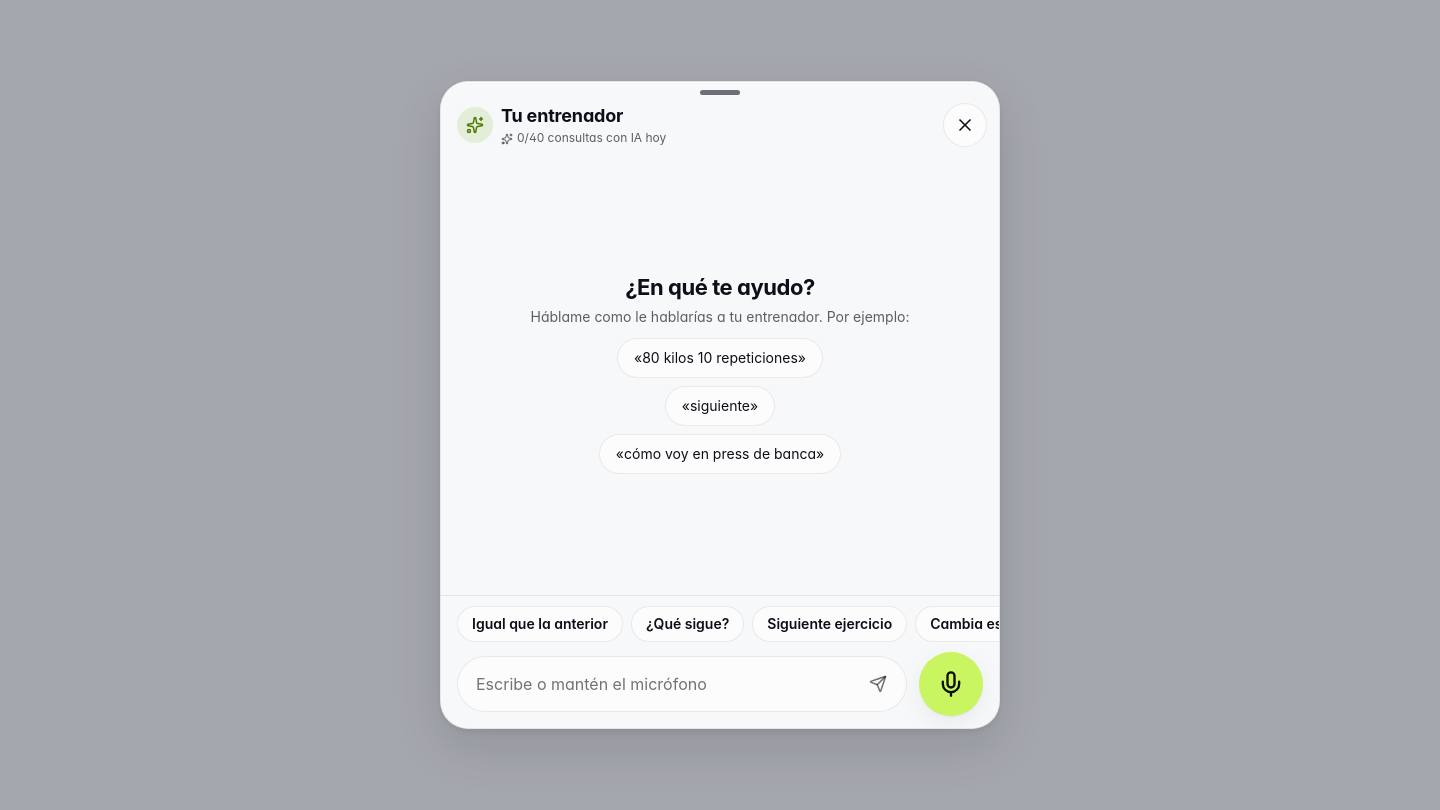
AssistantSheet › only the newest logged set offers Deshacer
Type "80 por 10" into the field named "Mensaje para el asistente" at (663, 684), box [474,657,852,711]
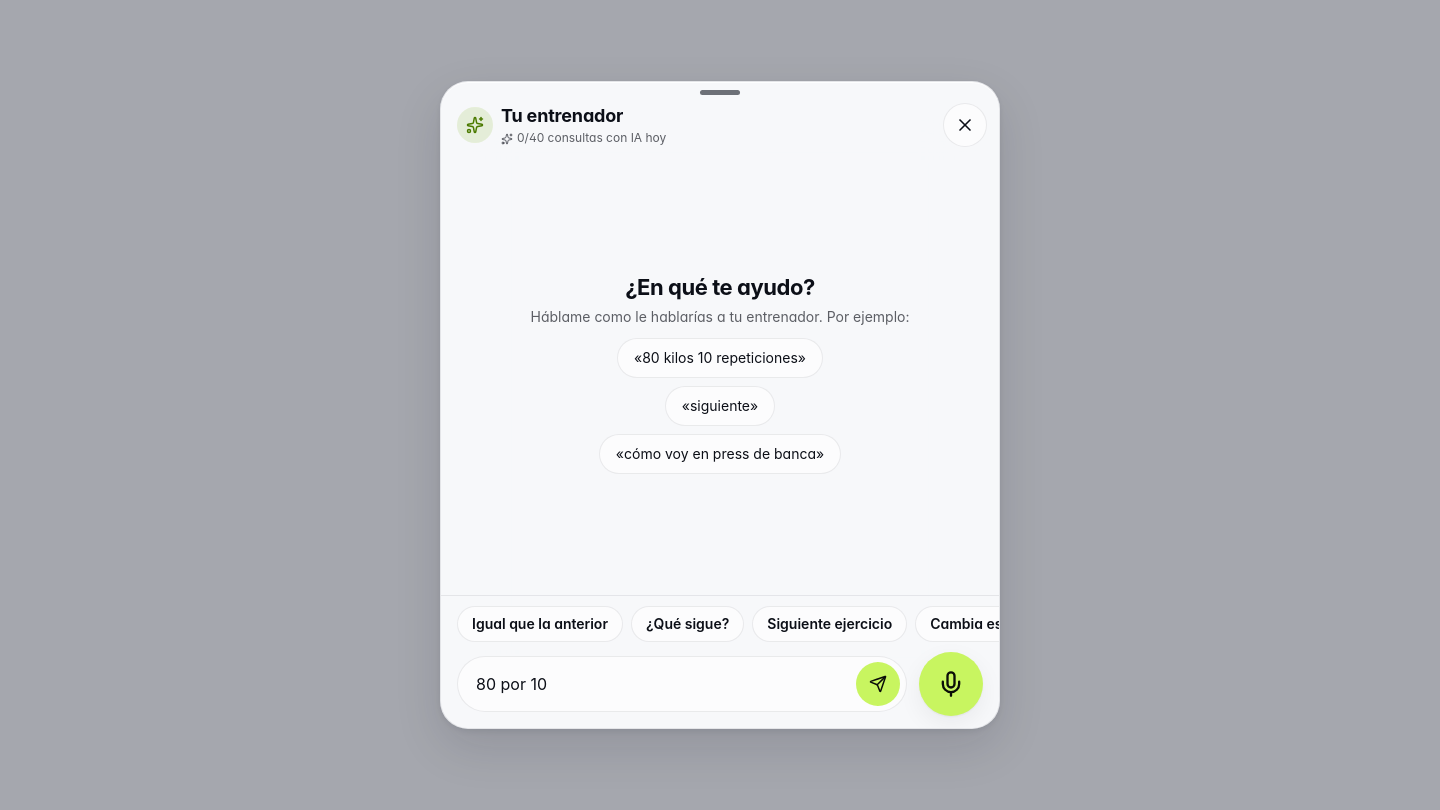
Submit the form named "Mensaje para el asistente", box [457,652,983,716]
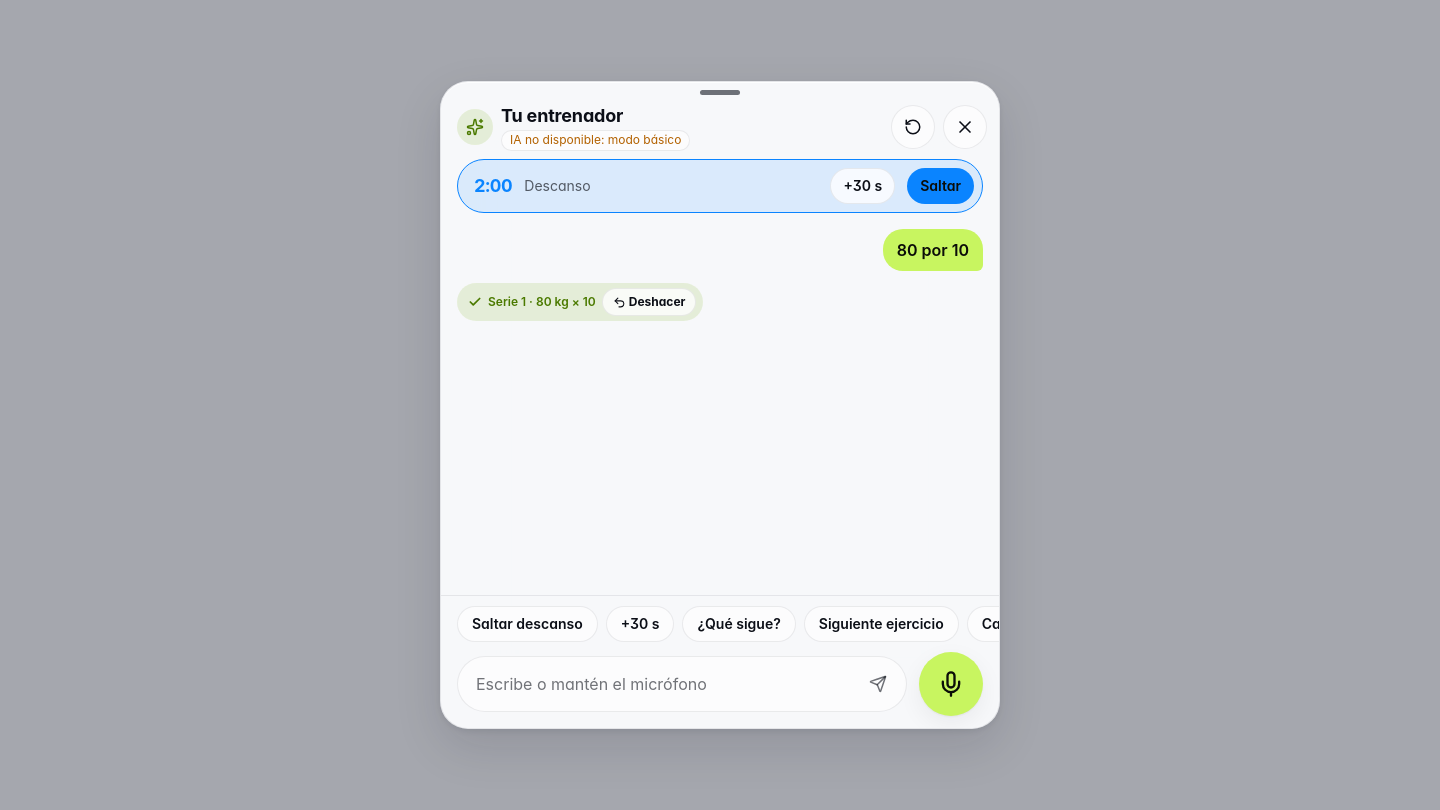
Now the number of buttons "Deshacer" is 1, box [602,288,696,316]
Type "82 por 8" into the field named "Mensaje para el asistente" at (663, 684), box [474,657,852,711]
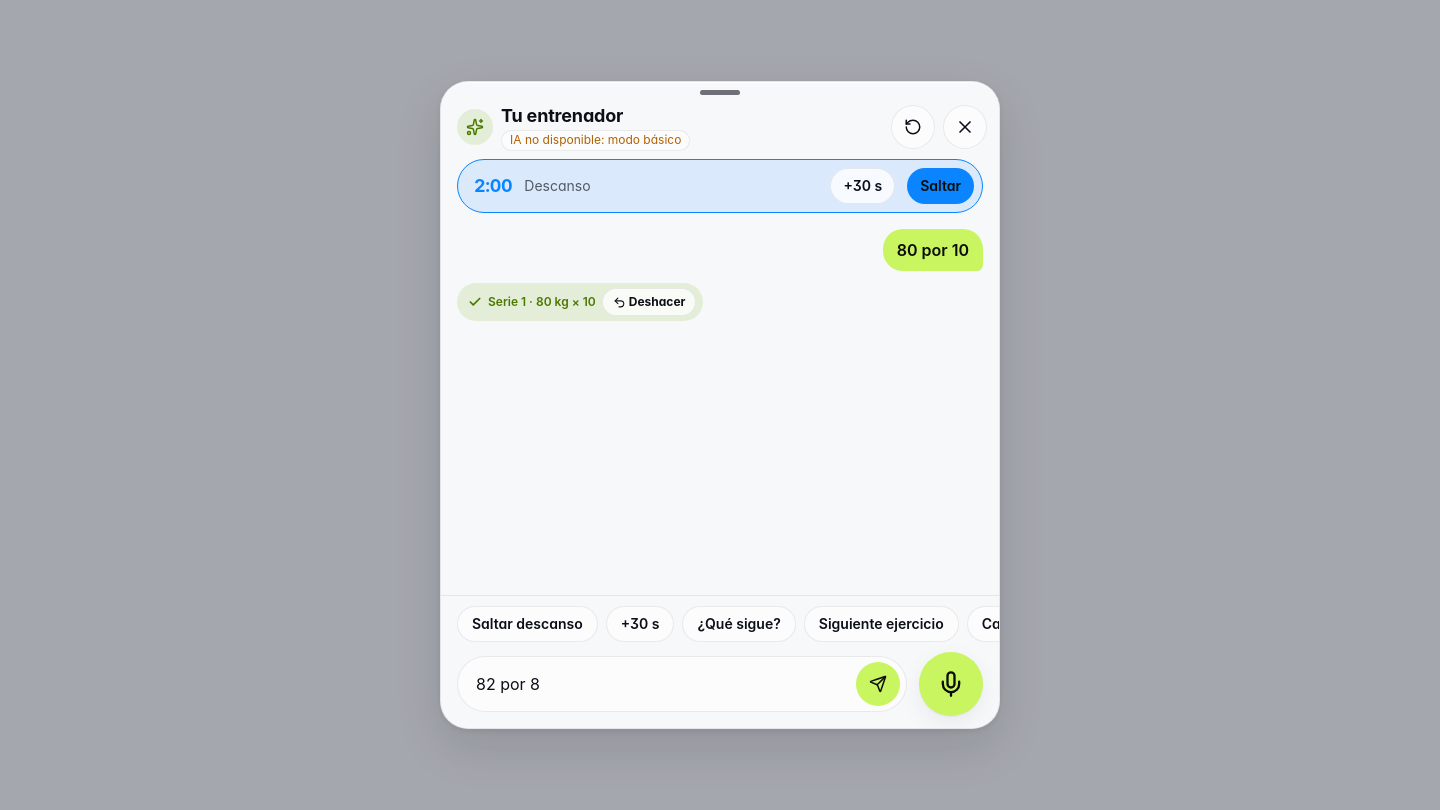
Submit the form named "Mensaje para el asistente", box [457,652,983,716]
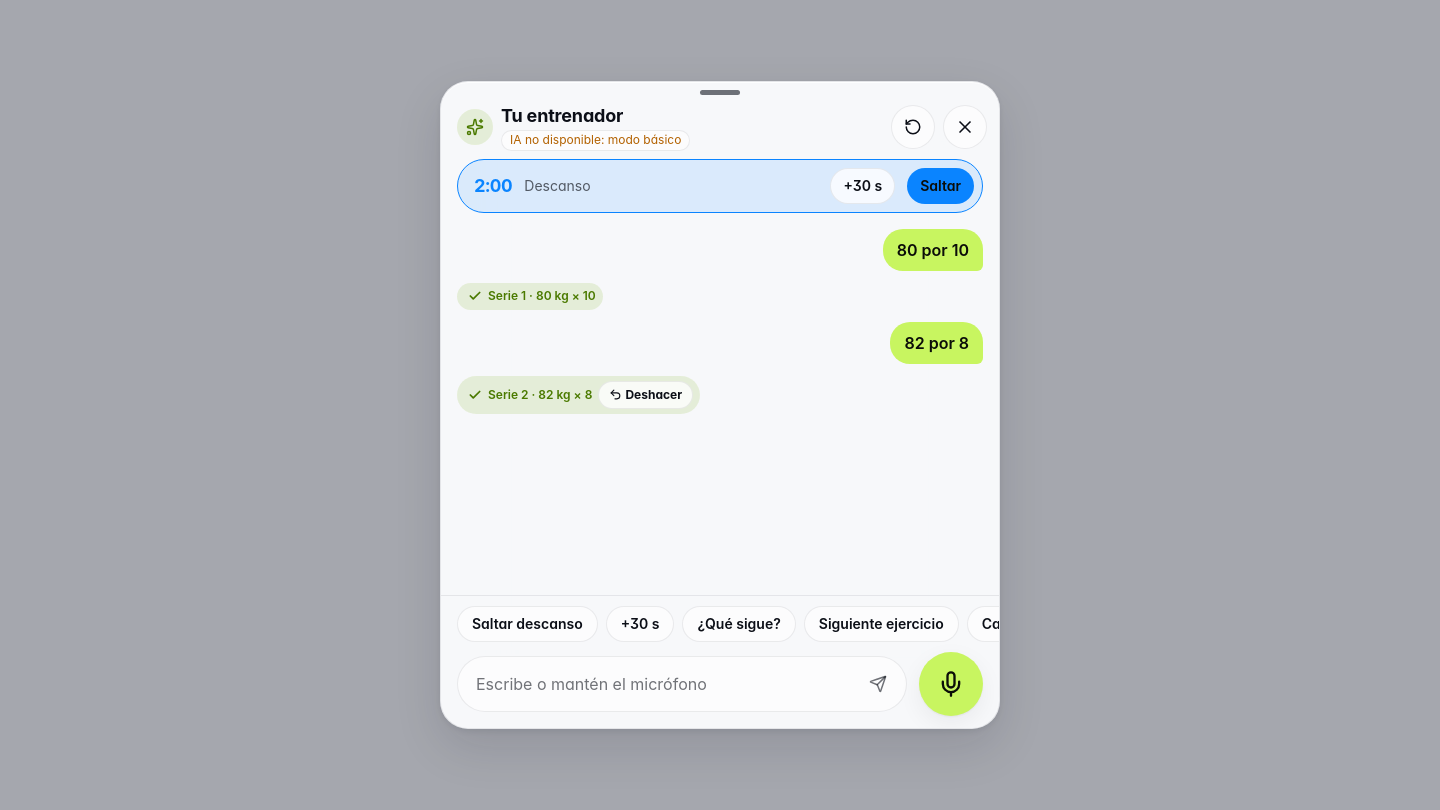
Now the number of buttons "Deshacer" is 1, box [598,381,693,409]
Now the text "Serie 2 · 82 kg × 8" is shown, box [488,386,592,403]
